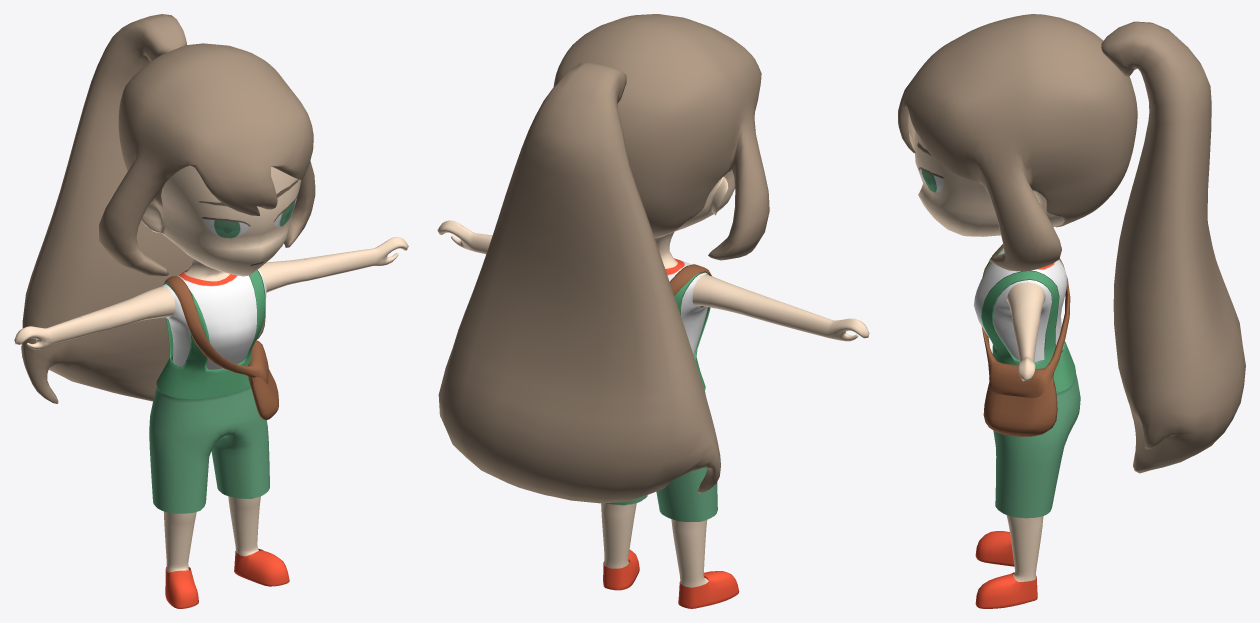
3 renders of one model, left to right at view 1: azimuth 30°, elevation 25°; view 2: azimuth 150°, elevation 25°; view 3: azimuth 270°, elevation 25°, orthographic. The views are drawn at different scales.
Parts seen in each view (by area): view 1: body, ponytail; view 2: ponytail, body; view 3: body, ponytail.
Boxes of the visible parts, x1,y1,x2,y2 form: body: (14,43,408,608); ponytail: (21,14,265,403); ponytail: (438,62,720,503); body: (437,14,869,608); body: (898,14,1137,608); ponytail: (1101,21,1245,473).
Bounding box in the file's own units: 1.12 × 1.43 × 0.8098.
1 material, 1 textured.
